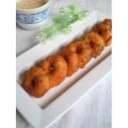vada: (21, 67, 48, 98), (41, 55, 66, 86), (58, 48, 80, 76), (69, 40, 91, 67), (83, 31, 104, 57), (93, 20, 112, 47)
